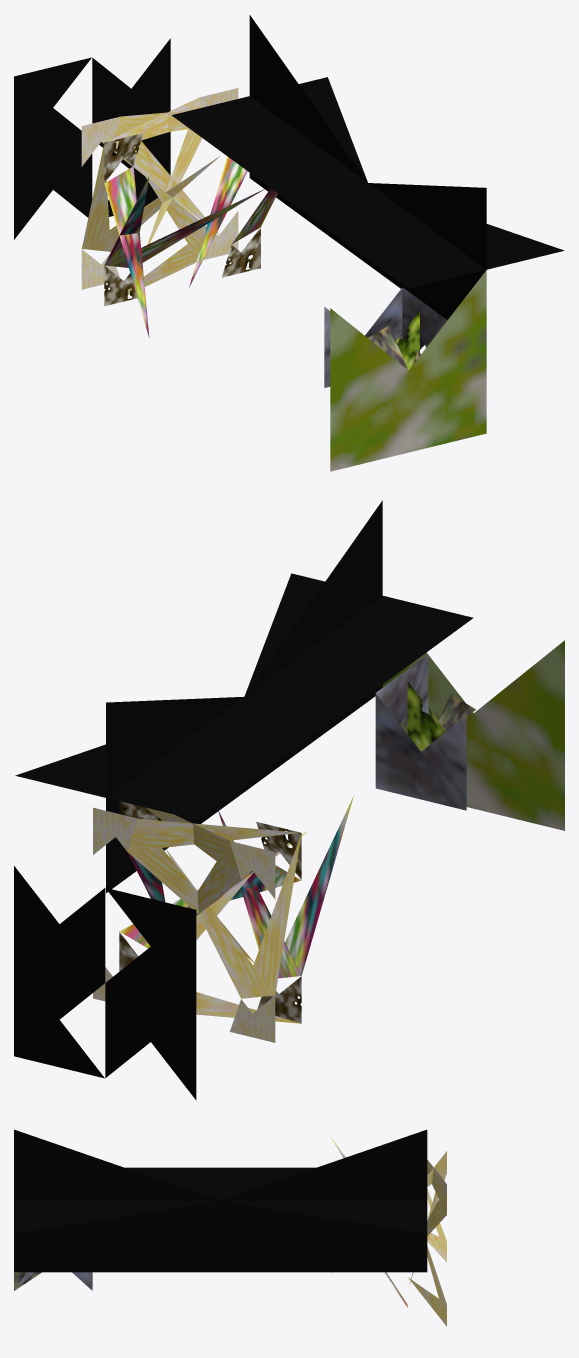
File: town_geometry_type_37.obj
The picture shows the model from 3 angles, top to bottom: view 1: azimuth 30°, elevation 25°; view 2: azimuth 150°, elevation 25°; view 3: azimuth 270°, elevation 25°; orthographic projection. The views are drawn at different scales.
Visible parts, largest first — view 1: face_list_010, face_list_016, face_list_011, face_list_013, face_list_007, face_list_004, face_list_002, face_list_009, face_list_003, face_list_005, face_list_000, face_list_008 (+4 smaller); view 2: face_list_010, face_list_016, face_list_005, face_list_011, face_list_013, face_list_012, face_list_004, face_list_000, face_list_009, face_list_002, face_list_003, face_list_007 (+3 smaller); view 3: face_list_010, face_list_000, face_list_003, face_list_004, face_list_002, face_list_005.
Boxes of the visible parts, x1=… form: face_list_010: x1=92, y1=15, x2=564, y2=319; face_list_016: x1=330, y1=270, x2=486, y2=471; face_list_011: x1=14, y1=57, x2=91, y2=158; face_list_013: x1=14, y1=142, x2=92, y2=239; face_list_007: x1=104, y1=133, x2=149, y2=337; face_list_004: x1=81, y1=143, x2=219, y2=289; face_list_002: x1=81, y1=110, x2=220, y2=235; face_list_009: x1=104, y1=176, x2=265, y2=306; face_list_003: x1=127, y1=175, x2=238, y2=294; face_list_005: x1=324, y1=287, x2=447, y2=387; face_list_000: x1=105, y1=88, x2=238, y2=244; face_list_008: x1=222, y1=188, x2=277, y2=277; face_list_010: x1=14, y1=500, x2=473, y2=982; face_list_016: x1=382, y1=640, x2=564, y2=830; face_list_005: x1=375, y1=654, x2=466, y2=810; face_list_011: x1=105, y1=888, x2=196, y2=1004; face_list_013: x1=105, y1=983, x2=196, y2=1100; face_list_012: x1=14, y1=961, x2=104, y2=1078; face_list_004: x1=165, y1=833, x2=301, y2=1042; face_list_000: x1=93, y1=807, x2=301, y2=962; face_list_009: x1=218, y1=795, x2=353, y2=1023; face_list_002: x1=145, y1=807, x2=275, y2=915; face_list_003: x1=93, y1=871, x2=300, y2=1023; face_list_007: x1=230, y1=821, x2=301, y2=900; face_list_010: x1=14, y1=1129, x2=427, y2=1272; face_list_000: x1=408, y1=1135, x2=446, y2=1235; face_list_003: x1=408, y1=1246, x2=446, y2=1326; face_list_004: x1=427, y1=1188, x2=446, y2=1262; face_list_002: x1=409, y1=1151, x2=446, y2=1285; face_list_005: x1=14, y1=1272, x2=92, y2=1290.
Bounding box in the file's own units: 96 × 96 × 224.
Materials: 15 (15 with a texture image).
